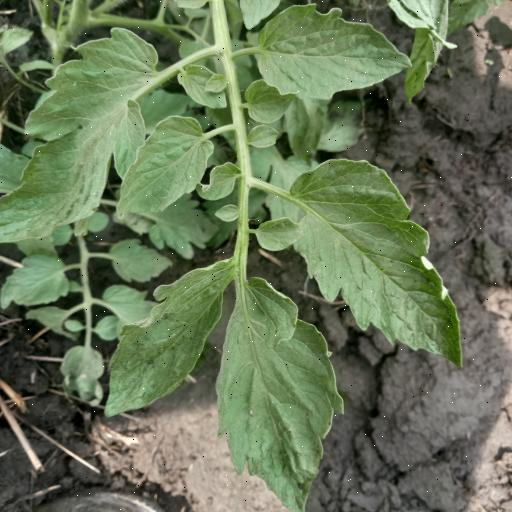Tomato_healthy: (261, 155, 475, 373), (213, 272, 347, 512)
